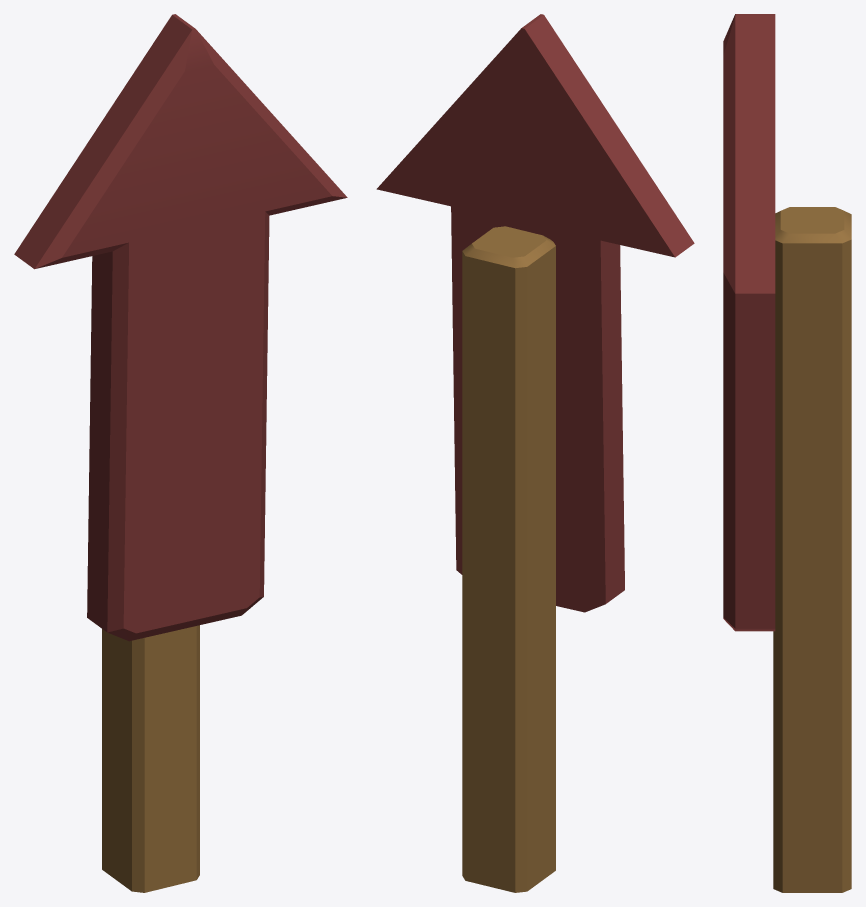
Rendered from quaternius-platformer-game-arrow-up.glb.
3 views of the same model, side by side, from view 1: azimuth 30°, elevation 25°; view 2: azimuth 150°, elevation 25°; view 3: azimuth 270°, elevation 25° (orthographic). The views are drawn at different scales.
Visible parts, largest first — view 1: Arrow_Up; view 2: Arrow_Up; view 3: Arrow_Up.
Boxes of the visible parts, bbox=[...] form: Arrow_Up: bbox=[14, 14, 347, 892]; Arrow_Up: bbox=[376, 14, 694, 892]; Arrow_Up: bbox=[723, 14, 851, 892].
Bounding box in the file's own units: 1.02 × 2.7 × 0.3631.
